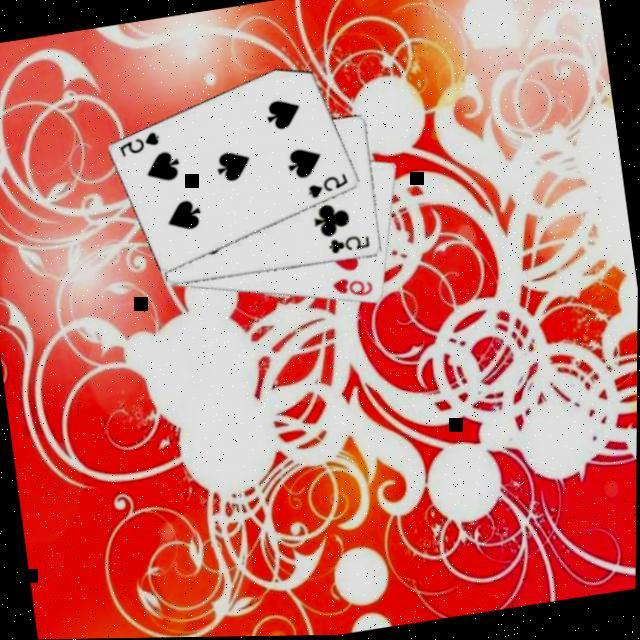5C: (326, 230, 374, 257)
5S: (305, 168, 354, 202), (116, 126, 166, 159)
6H: (330, 270, 378, 302)
